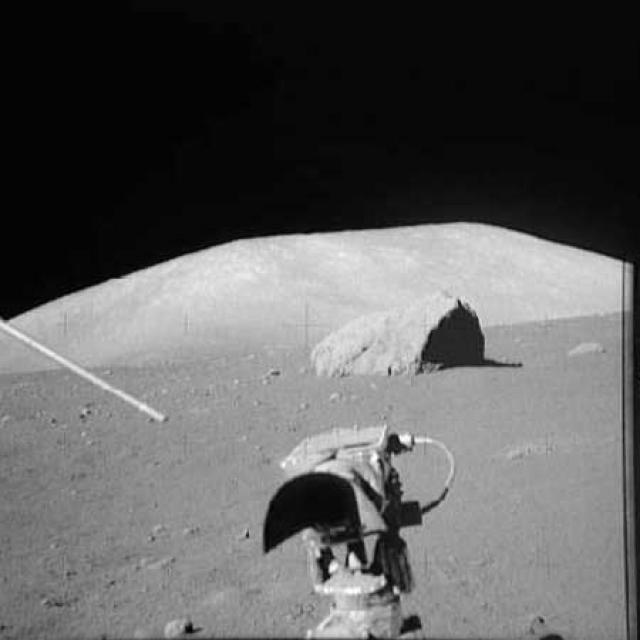artifact: (255, 420, 465, 638), (4, 314, 172, 437)
rock: (302, 274, 488, 388), (552, 330, 608, 366), (151, 606, 203, 639)
